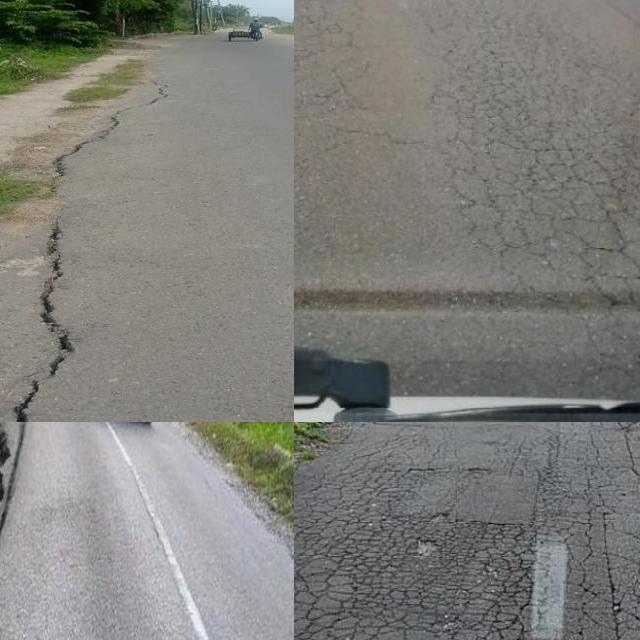Memanjang: (0, 98, 89, 422)
Retak Buaya: (434, 12, 640, 383), (294, 461, 537, 640)
